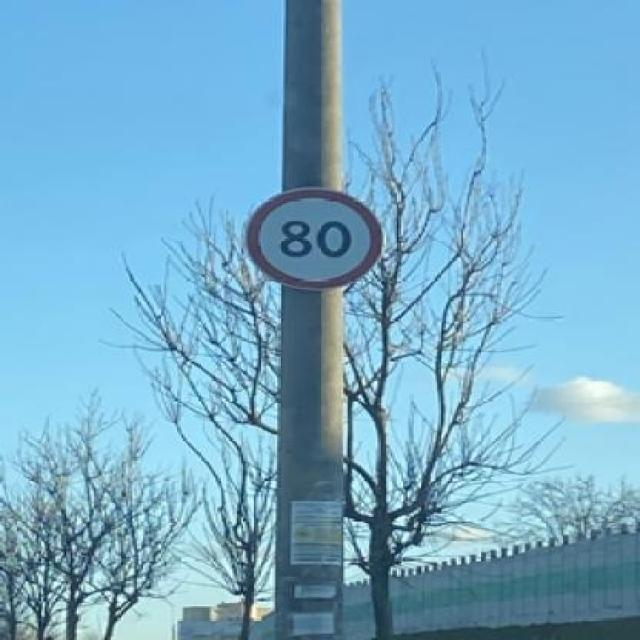forb_speed_over_80: (247, 187, 382, 290)
